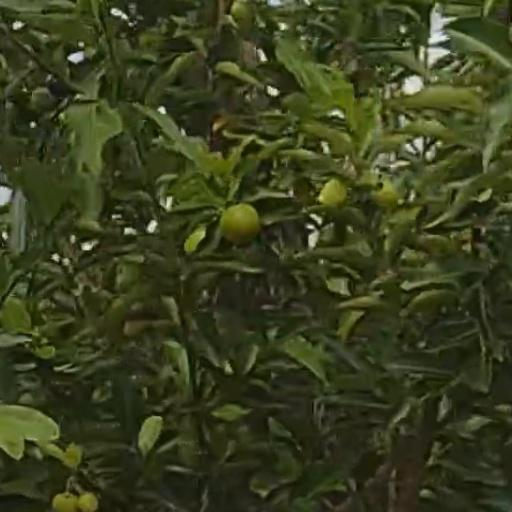acerola_verde: (221, 204, 257, 245), (52, 492, 77, 510), (80, 494, 98, 510)
